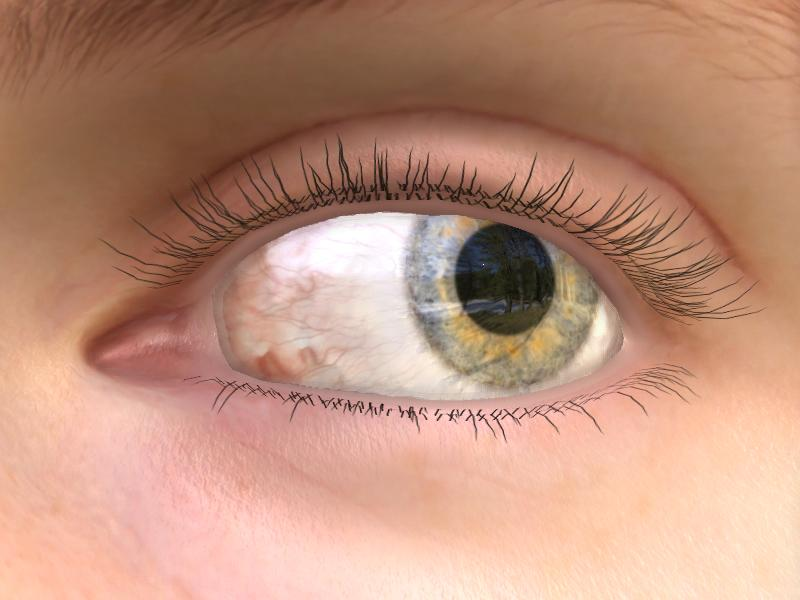eye: (409, 211, 605, 387)
